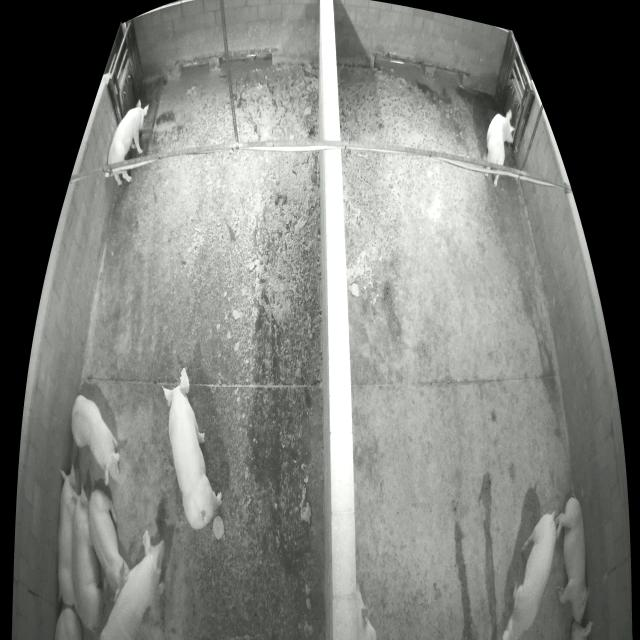pig: (162, 367, 222, 529), (100, 530, 166, 638), (502, 511, 556, 639), (71, 485, 107, 632), (89, 488, 129, 595), (72, 396, 119, 486), (555, 496, 588, 623), (109, 99, 149, 184), (58, 464, 79, 606), (485, 109, 514, 187), (356, 583, 376, 638), (56, 606, 82, 639)
